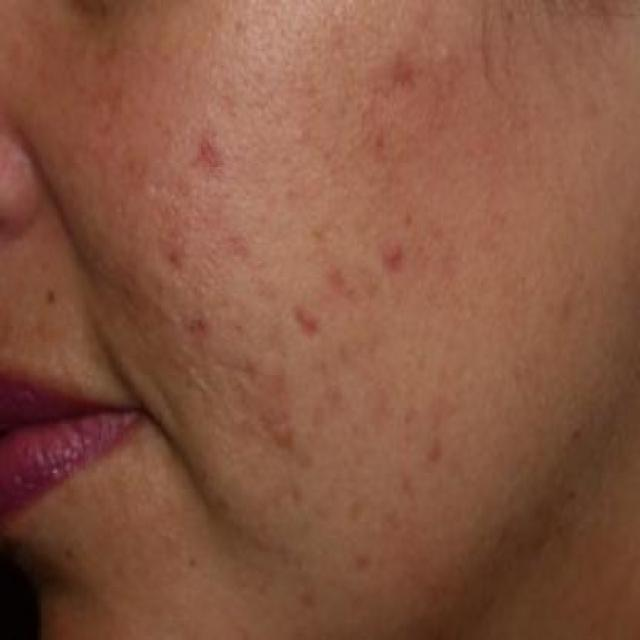dark spot: (374, 35, 429, 114), (180, 124, 240, 184), (228, 334, 275, 406), (250, 400, 302, 464), (317, 249, 366, 312), (282, 290, 331, 352), (174, 290, 223, 348), (214, 216, 263, 273), (412, 422, 450, 481), (362, 116, 402, 161), (157, 236, 189, 288), (344, 542, 382, 585), (374, 235, 412, 273)
